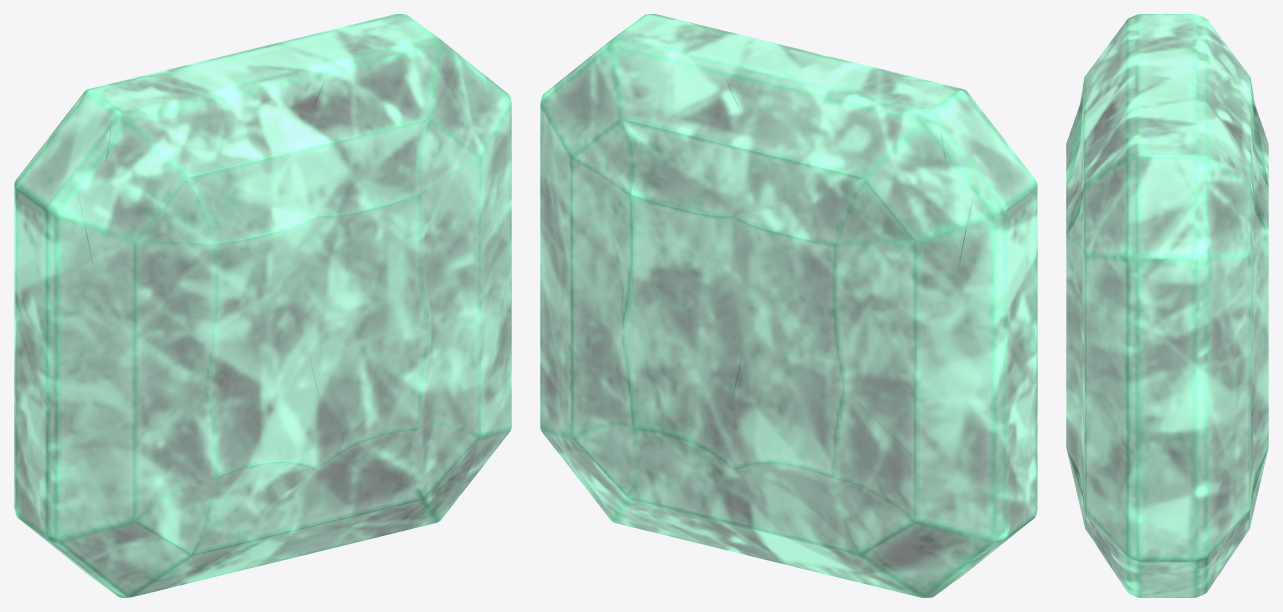
File: Radiant.glb
3 renders of one model, left to right at view 1: azimuth 30°, elevation 25°; view 2: azimuth 150°, elevation 25°; view 3: azimuth 270°, elevation 25°, orthographic. The views are drawn at different scales.
Parts seen in each view (by area): view 1: Plane.004_Diamond_Master_0; view 2: Plane.004_Diamond_Master_0; view 3: Plane.004_Diamond_Master_0.
Part boxes in pixels (x1=…): Plane.004_Diamond_Master_0: x1=14, y1=14, x2=511, y2=597; Plane.004_Diamond_Master_0: x1=540, y1=14, x2=1037, y2=597; Plane.004_Diamond_Master_0: x1=1066, y1=14, x2=1268, y2=597.
Size of the model in its own units: 1.06 by 1.06 by 0.4392.
1 material, 1 textured.
